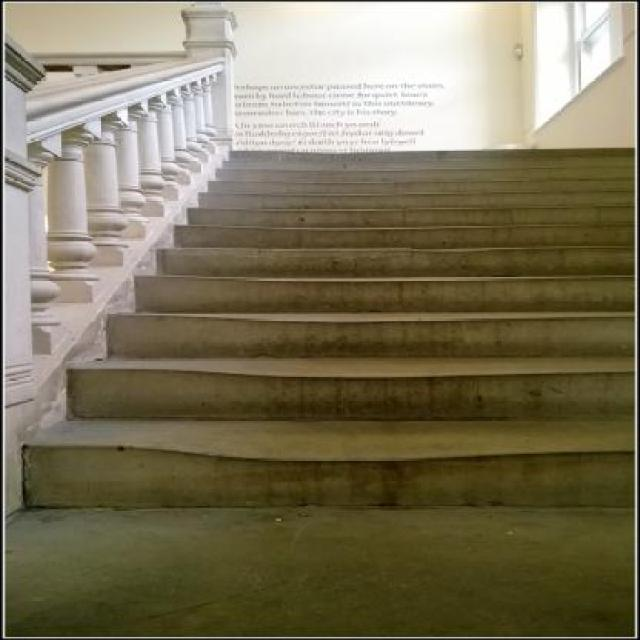stair: (21, 149, 634, 509)
